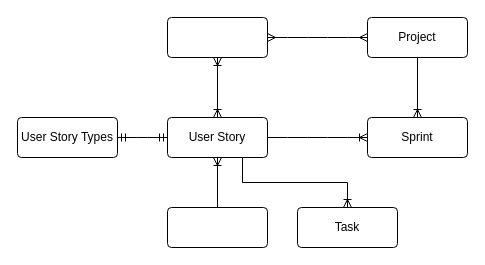
Some shapes in this 485 by 265 pixel diagram are drawn without their labels. The shapes that lost their labels are listed below. From the top down, each one's centre as x and y in pixels, then its label:
the point at 217,37: User
the point at 217,227: Feature
